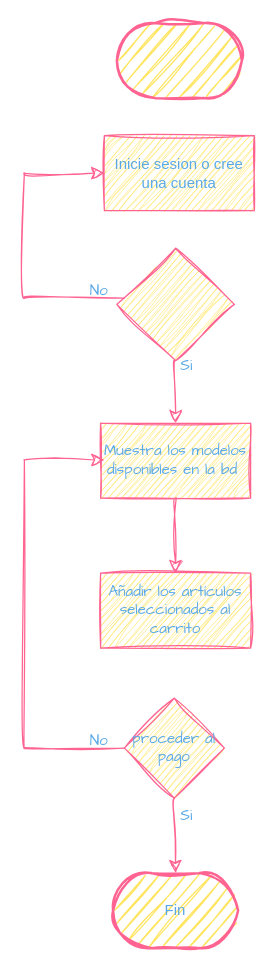
Some shapes in this 278 by 970 pixel diagram are drawn without their labels. Here are the shapes that lost their labels. From the top down, the centre of each, then its label:
At (178,60): "inicio".
At (175,304): "Credenciales correctas".
